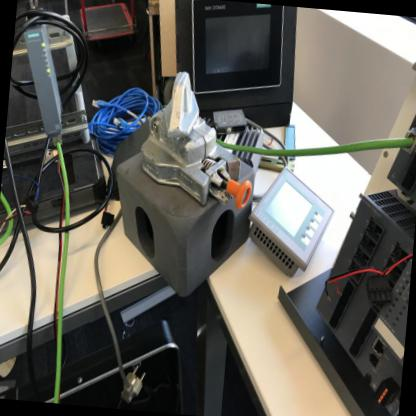CornerCasting: (104, 140, 259, 304)
Twistlock: (134, 59, 265, 210)
